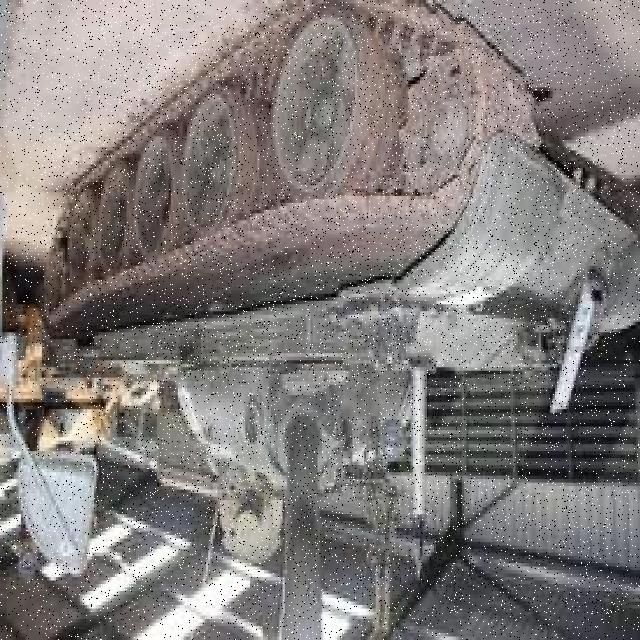MIL_MBT: (75, 9, 629, 613)
